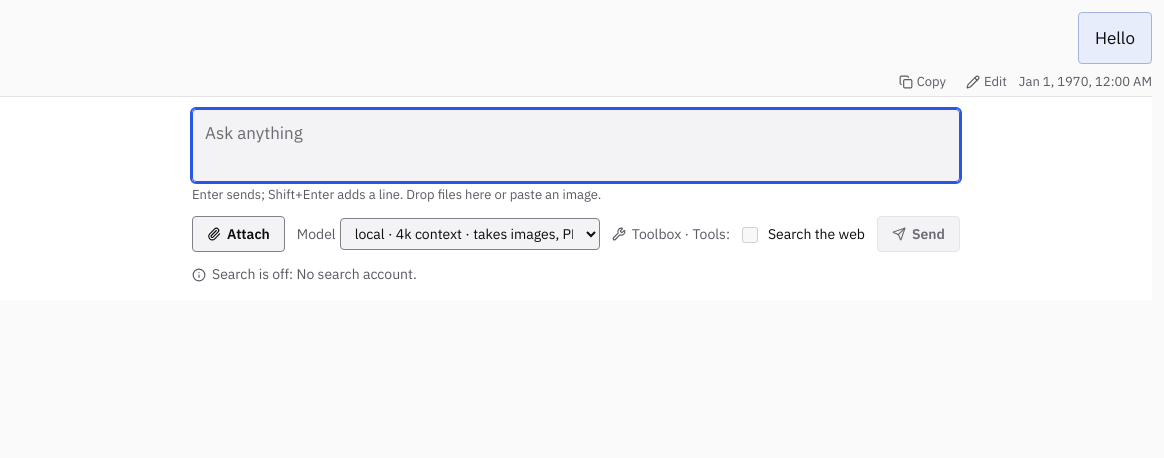
Scenario: names the edit box apart from the composer (workbench#2)
Step 1. Click the button with aria-label "Edit your message" → coordinates (986, 82), box x1=958 y1=68 x2=1015 y2=96
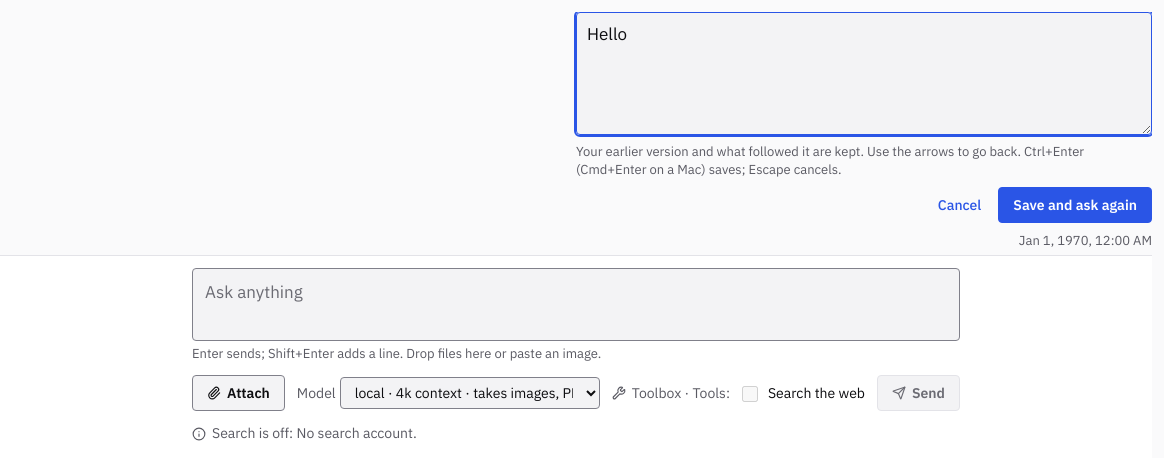
Expected: the number of text boxes named "Your message" is 1, x1=192 y1=268 x2=960 y2=341
Now the number of text boxes named "Edit your message" is 1, box x1=576 y1=12 x2=1152 y2=135
Now the text box named "Edit your message" holds "Hello", box x1=576 y1=12 x2=1152 y2=135
